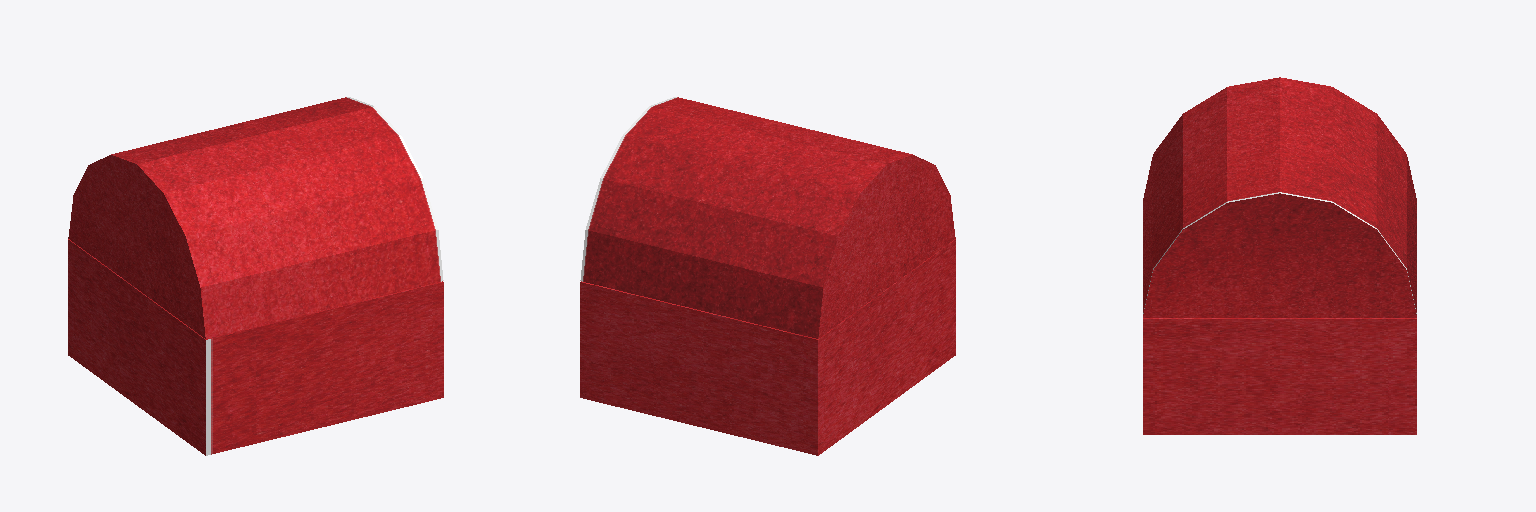
3 views of the same model, side by side, from view 1: azimuth 30°, elevation 25°; view 2: azimuth 150°, elevation 25°; view 3: azimuth 270°, elevation 25° (orthographic).
Visible parts, largest first — view 1: doun_円柱, Cube; view 2: doun_円柱, Cube; view 3: doun_円柱, Cube.
Boxes of the visible parts, box(x1,y1,x2,y2) form: doun_円柱: box(68, 97, 443, 338); Cube: box(68, 239, 443, 455); doun_円柱: box(580, 97, 955, 338); Cube: box(580, 239, 955, 455); doun_円柱: box(1143, 77, 1416, 317); Cube: box(1143, 318, 1416, 434).
Size of the model in its own units: 2 by 1.94 by 2.
Materials: 2 (1 with a texture image).